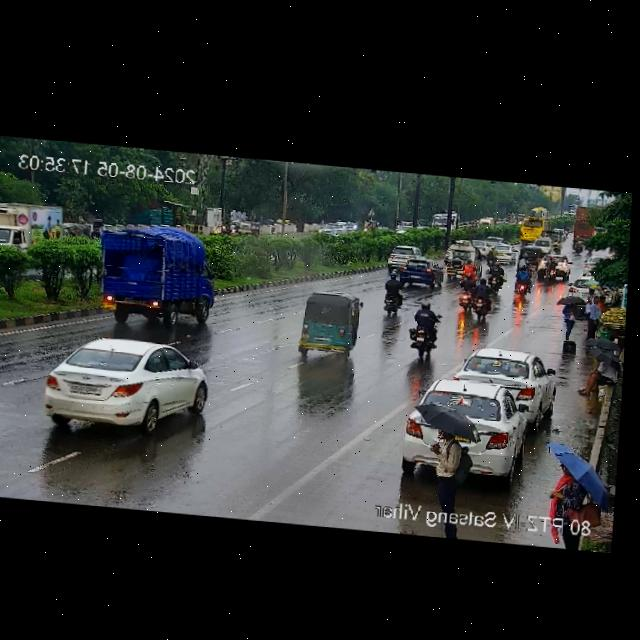bus: (521, 216, 549, 243), (430, 209, 459, 231), (529, 204, 548, 219)
car: (40, 334, 211, 437), (401, 378, 525, 486), (449, 344, 557, 414), (295, 289, 365, 361), (442, 242, 481, 279), (400, 256, 442, 286), (382, 242, 420, 270), (58, 216, 96, 241), (536, 253, 570, 276), (234, 218, 263, 238), (542, 230, 560, 249), (533, 237, 554, 253), (495, 245, 514, 262), (518, 246, 540, 258), (484, 235, 505, 242)
motorcycle: (406, 299, 440, 358), (468, 275, 497, 320), (381, 267, 404, 314), (456, 268, 477, 307), (514, 264, 534, 298), (488, 263, 506, 292), (327, 227, 354, 240), (485, 245, 498, 268), (545, 255, 556, 281), (573, 238, 582, 254)
person: (429, 418, 474, 537), (546, 459, 594, 543), (579, 354, 618, 396), (583, 295, 603, 341), (559, 300, 578, 339)
truck: (98, 225, 215, 325), (0, 198, 61, 253), (571, 205, 601, 244), (477, 217, 495, 229)
